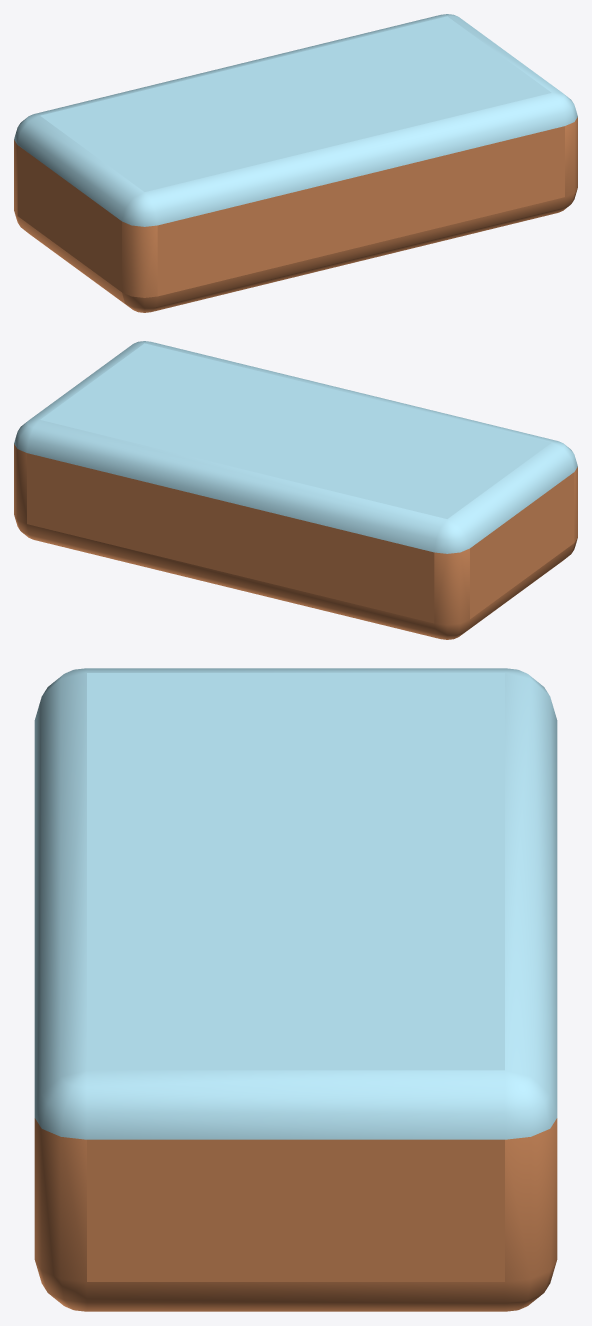
The model's file is blockSnowRoundedLowLong.glb.
3 views of the same model, one above another, from view 1: azimuth 30°, elevation 25°; view 2: azimuth 150°, elevation 25°; view 3: azimuth 270°, elevation 25° (orthographic). The views are drawn at different scales.
Visible parts, largest first — view 1: blockSnowRoundedLowLong; view 2: blockSnowRoundedLowLong; view 3: blockSnowRoundedLowLong.
Part boxes in pixels (x1,y1,x2,y2): blockSnowRoundedLowLong: [14, 14, 577, 312]; blockSnowRoundedLowLong: [14, 341, 577, 639]; blockSnowRoundedLowLong: [34, 668, 557, 1311].
Bounding box in the file's own units: 2 × 0.5 × 1.
